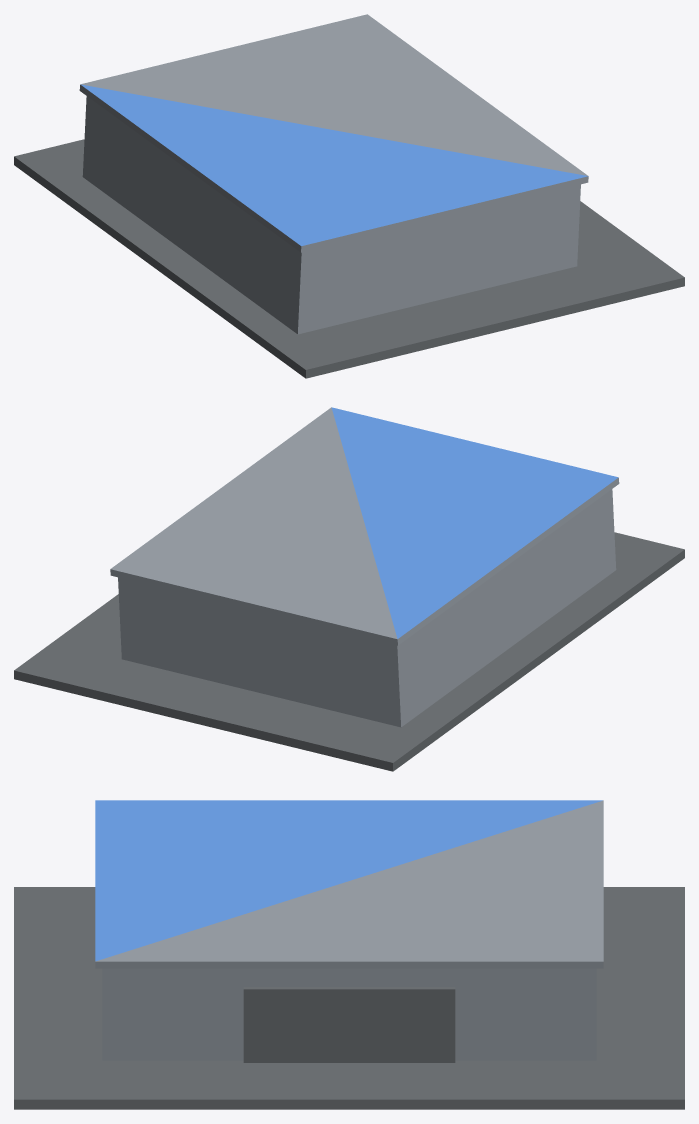
File: veyran_vehicle_factory_heavily_damaged.glb
3 views of the same model, one above another, from view 1: azimuth 30°, elevation 25°; view 2: azimuth 150°, elevation 25°; view 3: azimuth 270°, elevation 25° (orthographic). The views are drawn at different scales.
Visible parts, largest first — view 1: hull; view 2: hull; view 3: hull, door.
Boxes of the visible parts, x1,y1,x2,y2 form: hull: (14,14,684,378); hull: (14,407,684,771); hull: (14,800,684,1109); door: (243,987,455,1062).
Size of the model in its own units: 11.4 by 2.85 by 15.2.
